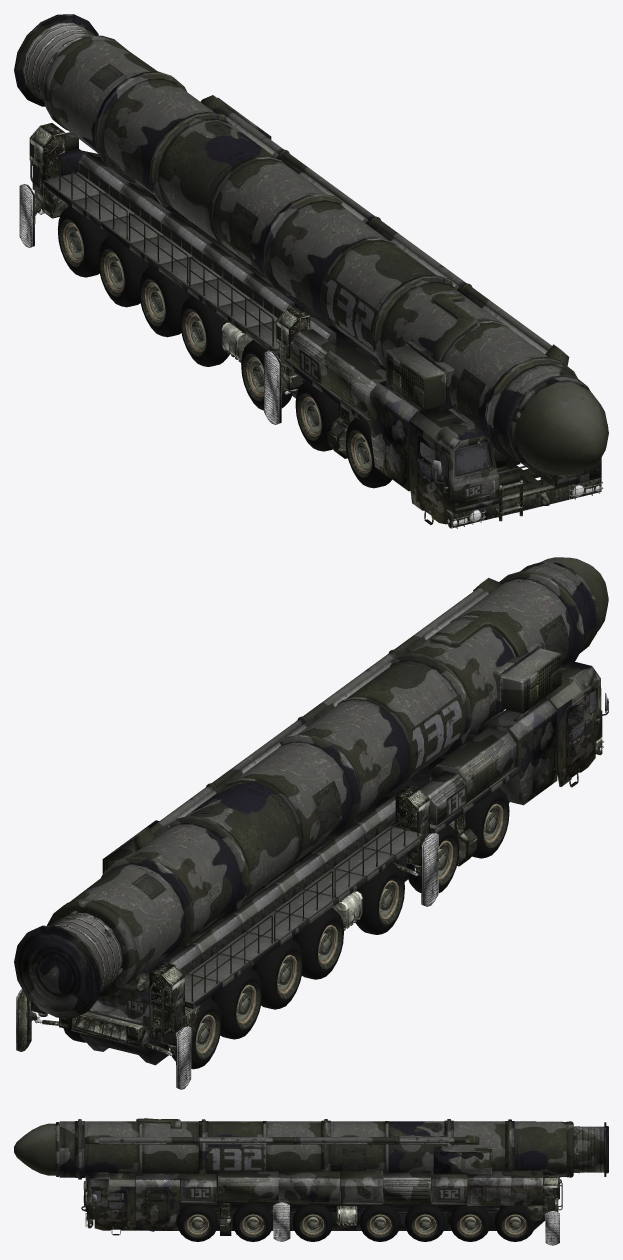
Rendered from topol.glb.
The picture shows the model from 3 angles, top to bottom: view 1: azimuth 30°, elevation 25°; view 2: azimuth 150°, elevation 25°; view 3: azimuth 270°, elevation 25°; orthographic projection. The views are drawn at different scales.
Size of the model in its own units: 6.21 by 6.53 by 33.35.
Materials: 3 (3 with a texture image).
